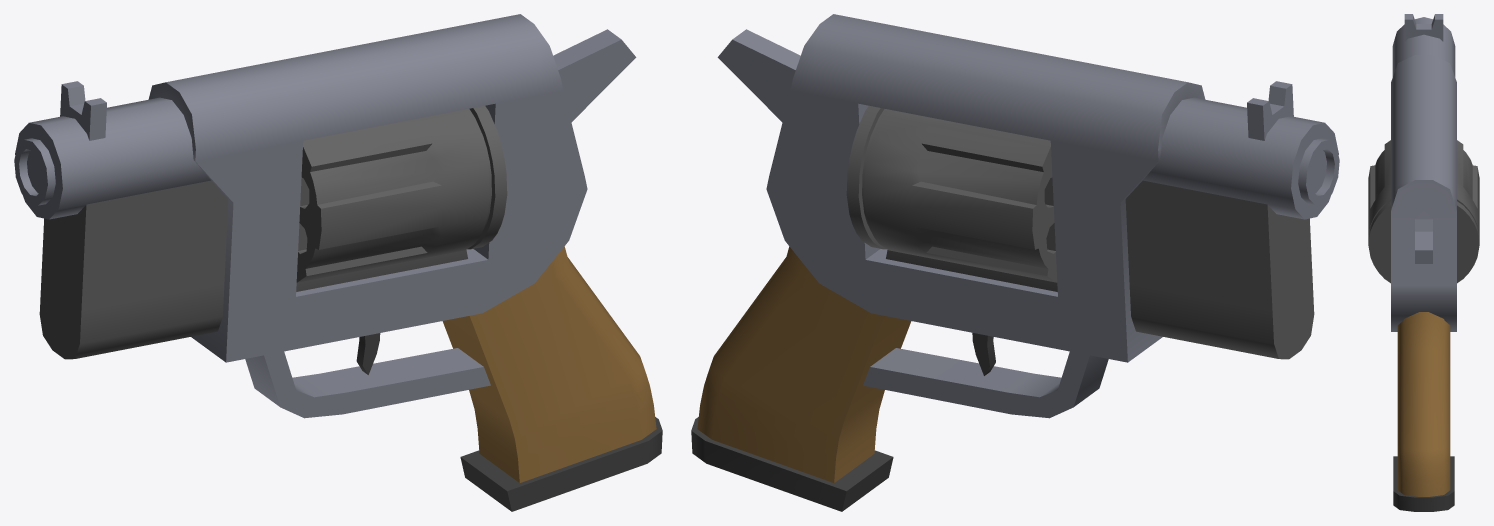
The model's file is Revolver_Small.glb.
3 views of the same model, side by side, from view 1: azimuth 30°, elevation 25°; view 2: azimuth 150°, elevation 25°; view 3: azimuth 270°, elevation 25° (orthographic). The views are drawn at different scales.
Visible parts, largest first — view 1: Revolver_Small; view 2: Revolver_Small; view 3: Revolver_Small.
Boxes of the visible parts, x1,y1,x2,y2 form: Revolver_Small: [14, 14, 662, 511]; Revolver_Small: [691, 14, 1339, 511]; Revolver_Small: [1368, 14, 1479, 511].
Bounding box in the file's own units: 0.6632 × 0.5096 × 0.1576.
